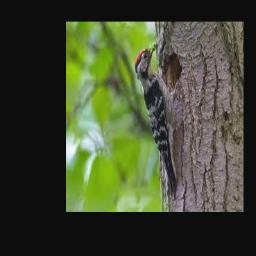Woodpecker: (135, 42, 182, 198)
